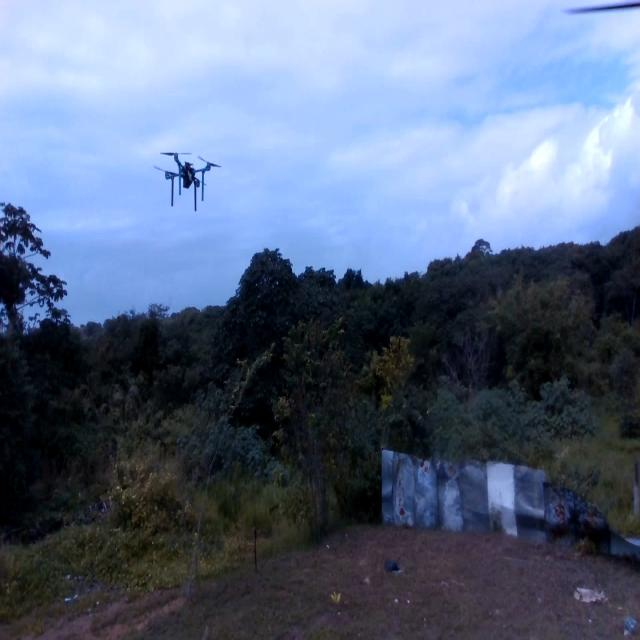-uav-: (145, 133, 222, 221)
